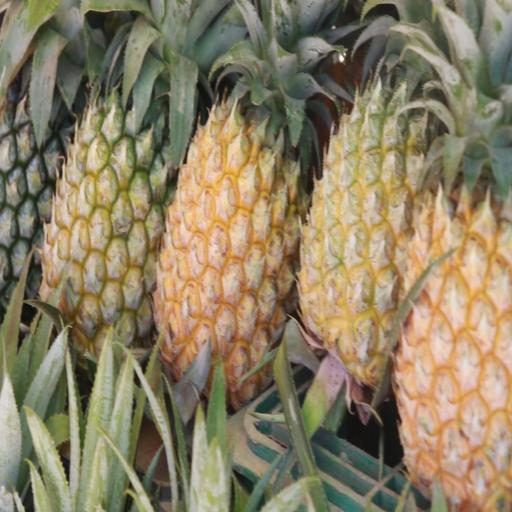------------------------------: (37, 2, 186, 372)
Pineapple - v8 v1: (299, 0, 466, 401), (151, 0, 304, 403), (394, 6, 512, 511)
